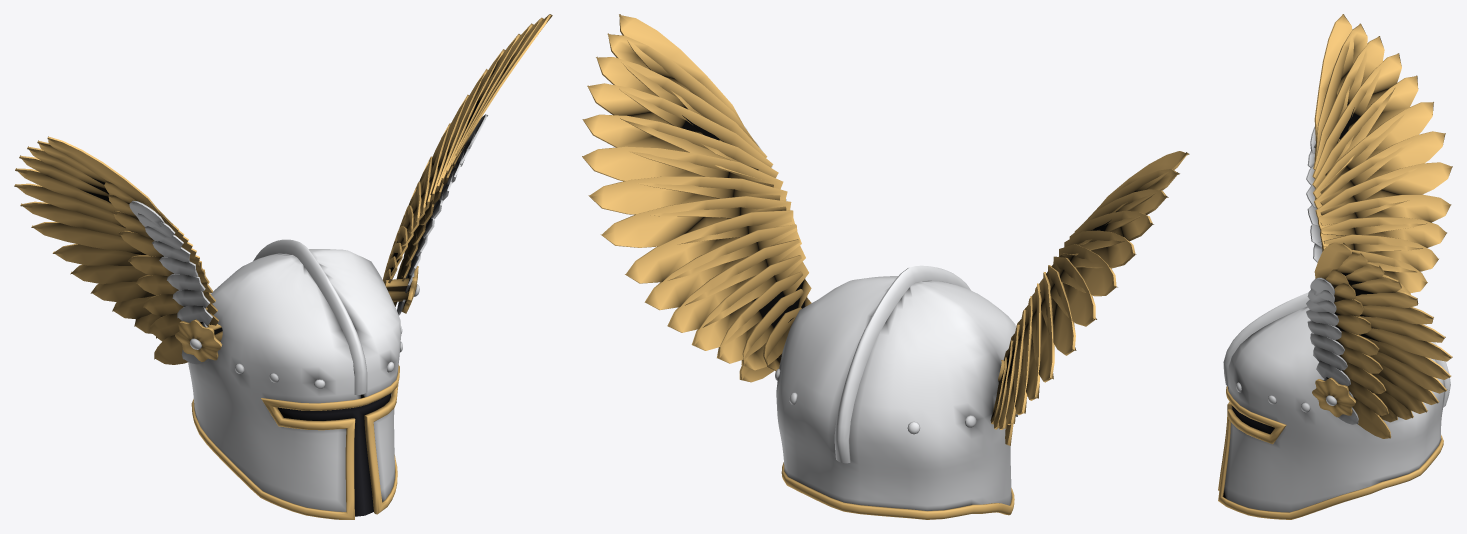
The model's file is captain_helmet.glb.
3 views of the same model, side by side, from view 1: azimuth 30°, elevation 25°; view 2: azimuth 150°, elevation 25°; view 3: azimuth 270°, elevation 25° (orthographic). The views are drawn at different scales.
Visible parts, largest first — view 1: CaptainHelmetSilver, CaptainHelmetGoldFeather, CaptainHelmetGold, CaptainHelmetSilverFeather, CaptainHelmetDark; view 2: CaptainHelmetGoldFeather, CaptainHelmetSilver, CaptainHelmetGold; view 3: CaptainHelmetGoldFeather, CaptainHelmetSilver, CaptainHelmetGold, CaptainHelmetSilverFeather, CaptainHelmetDark.
Boxes of the visible parts, bbox=[...] form: CaptainHelmetSilver: bbox=[188, 239, 419, 511]; CaptainHelmetGoldFeather: bbox=[14, 14, 552, 364]; CaptainHelmetGold: bbox=[175, 266, 418, 519]; CaptainHelmetSilverFeather: bbox=[129, 114, 487, 364]; CaptainHelmetDark: bbox=[278, 393, 391, 516]; CaptainHelmetGoldFeather: bbox=[582, 14, 1189, 445]; CaptainHelmetSilver: bbox=[775, 265, 1015, 510]; CaptainHelmetGold: bbox=[781, 296, 1027, 519]; CaptainHelmetGoldFeather: bbox=[1312, 14, 1452, 438]; CaptainHelmetSilver: bbox=[1223, 292, 1450, 512]; CaptainHelmetGold: bbox=[1218, 377, 1443, 519]; CaptainHelmetSilverFeather: bbox=[1306, 126, 1358, 424]; CaptainHelmetDark: bbox=[1232, 406, 1274, 434].
Size of the model in its own units: 0.5929 by 0.4392 by 0.254.
